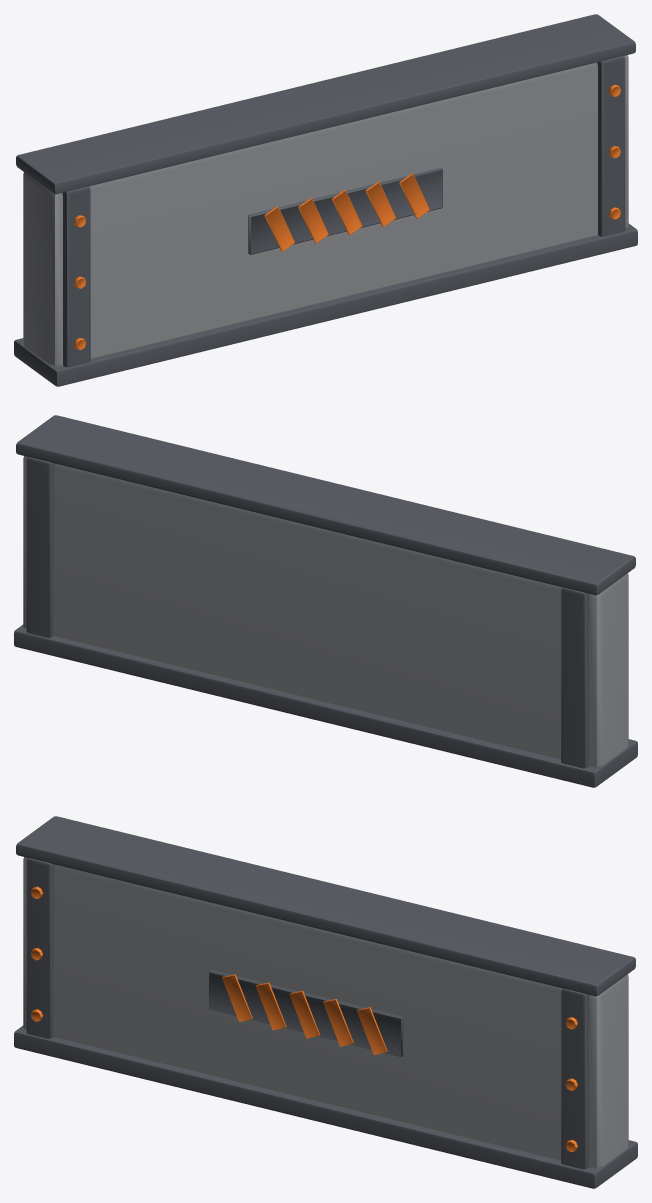
Rendered from arena_block.glb.
3 views of the same model, one above another, from view 1: azimuth 30°, elevation 25°; view 2: azimuth 150°, elevation 25°; view 3: azimuth 330°, elevation 25° (orthographic).
Visible parts, largest first — view 1: arena_block; view 2: arena_block; view 3: arena_block.
Boxes of the visible parts, x1=… form: arena_block: x1=14, y1=14, x2=637, y2=386; arena_block: x1=14, y1=415, x2=637, y2=787; arena_block: x1=14, y1=816, x2=637, y2=1188.
Size of the model in its own units: 7.95 by 2.65 by 1.06.
